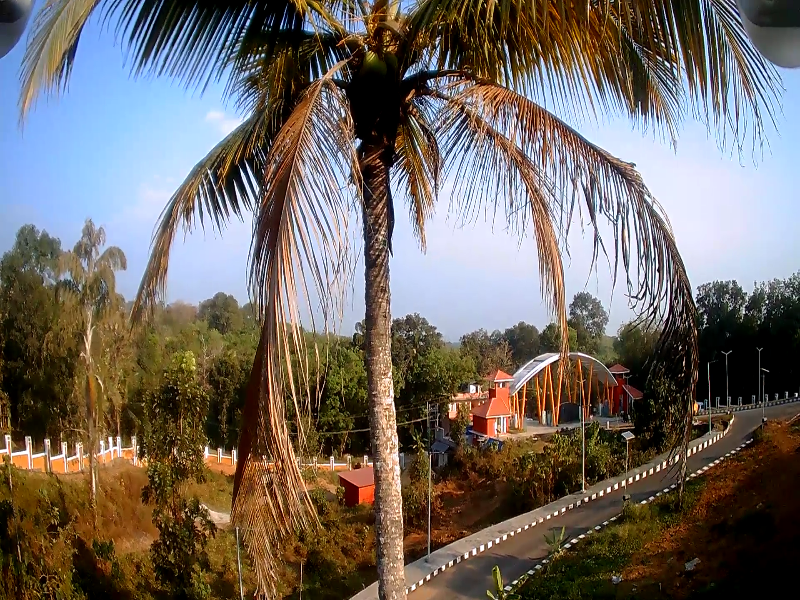coconut: (361, 51, 380, 73)
